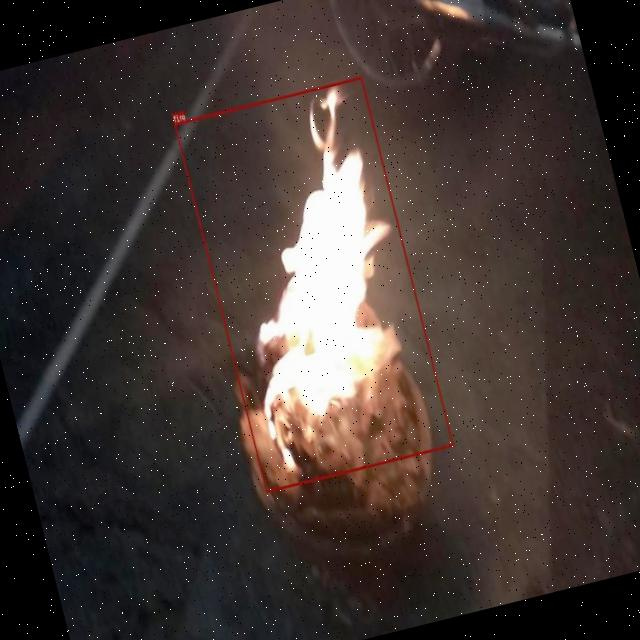fire: (173, 75, 453, 492)
